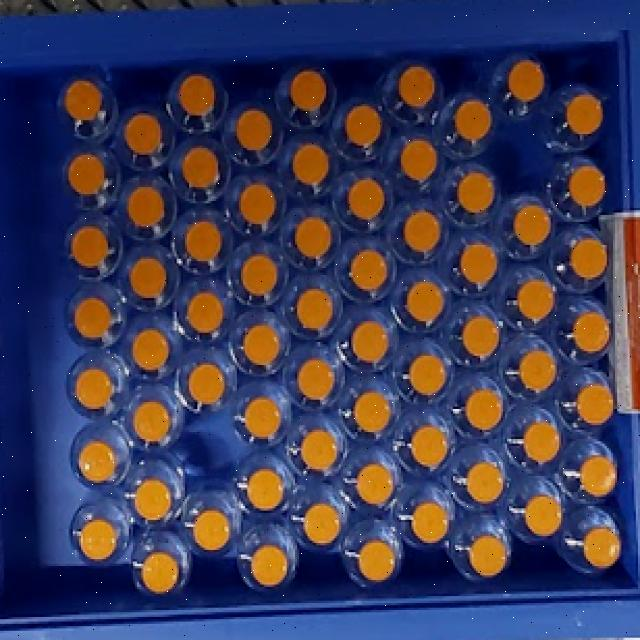vials: (354, 539, 395, 582), (70, 225, 110, 268), (289, 69, 328, 113), (579, 454, 618, 498), (79, 518, 118, 562), (456, 171, 495, 214), (181, 146, 220, 189), (349, 249, 388, 292), (461, 316, 500, 359), (131, 328, 170, 371), (75, 367, 114, 410), (192, 509, 231, 552), (302, 503, 341, 546), (466, 461, 504, 505), (512, 204, 551, 246), (402, 210, 441, 252), (295, 288, 334, 330), (129, 257, 168, 299), (132, 400, 171, 442), (292, 143, 330, 186), (408, 353, 446, 396), (78, 441, 116, 484), (300, 428, 338, 471), (246, 468, 284, 511), (134, 478, 172, 521), (582, 527, 621, 568), (400, 139, 438, 181), (460, 243, 498, 285), (572, 311, 610, 353), (240, 254, 278, 296), (351, 321, 389, 363), (242, 324, 280, 366), (186, 292, 224, 334), (356, 463, 394, 505), (251, 545, 289, 587), (508, 60, 545, 103), (455, 99, 492, 142), (398, 65, 435, 108), (345, 104, 382, 147), (239, 182, 276, 225), (524, 421, 561, 464), (354, 391, 391, 434), (244, 396, 281, 439), (124, 113, 162, 154), (570, 238, 608, 279), (406, 281, 444, 322), (576, 384, 614, 425), (411, 502, 449, 543), (141, 552, 179, 593), (65, 79, 102, 121), (68, 153, 105, 195), (348, 178, 385, 220), (295, 217, 332, 259), (519, 350, 556, 392), (74, 297, 111, 339), (465, 389, 502, 431), (411, 425, 448, 467), (469, 535, 506, 577), (566, 95, 604, 135), (128, 186, 165, 227), (185, 220, 222, 261), (298, 359, 335, 400), (188, 363, 225, 404), (525, 495, 562, 536), (236, 108, 272, 150), (569, 165, 605, 207), (179, 74, 215, 115), (518, 279, 554, 320)
